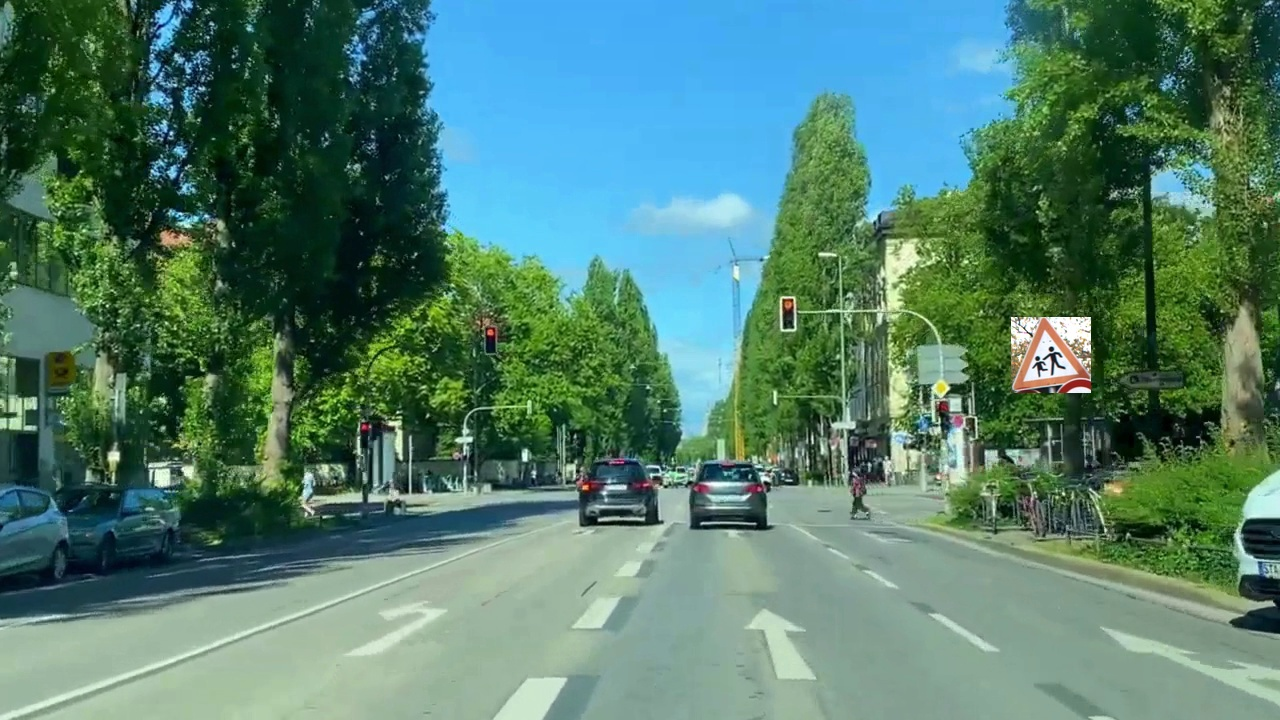Children: (1011, 317, 1091, 393)
